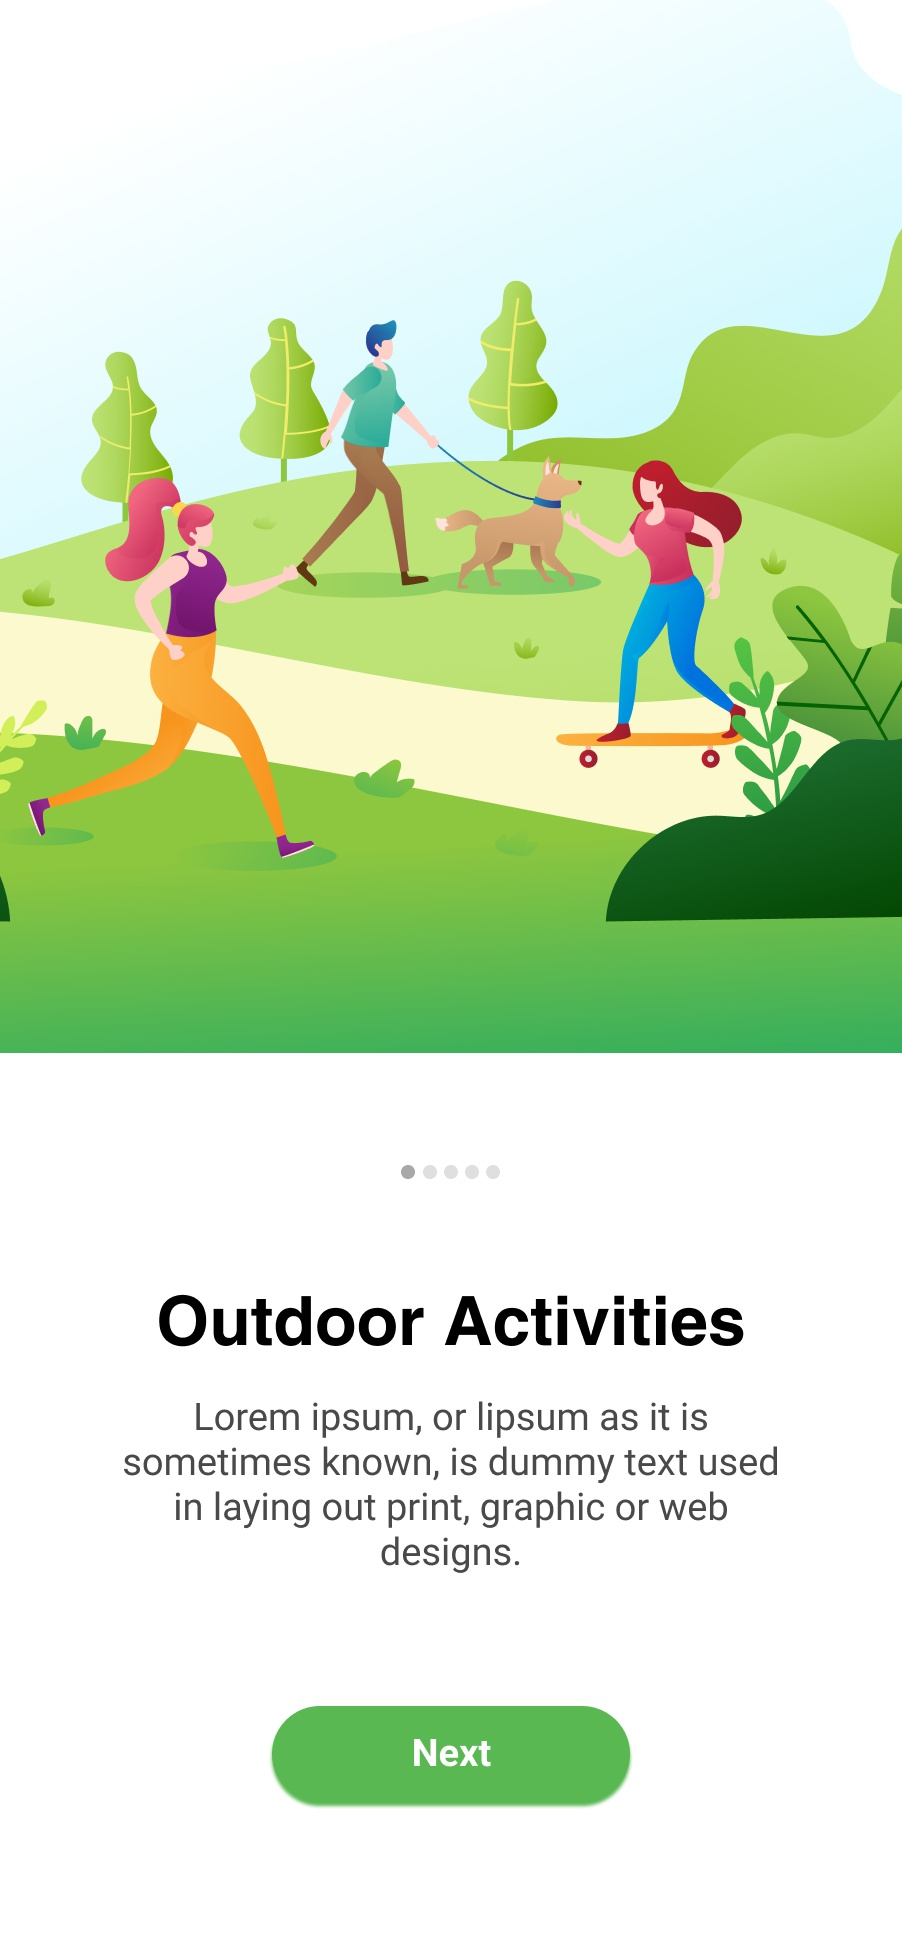Image: (1, 1, 902, 1052)
PageIndicator: (400, 1163, 503, 1182)
Text: (123, 1400, 779, 1574), (159, 1293, 745, 1348)
TextButton: (272, 1706, 630, 1807)
